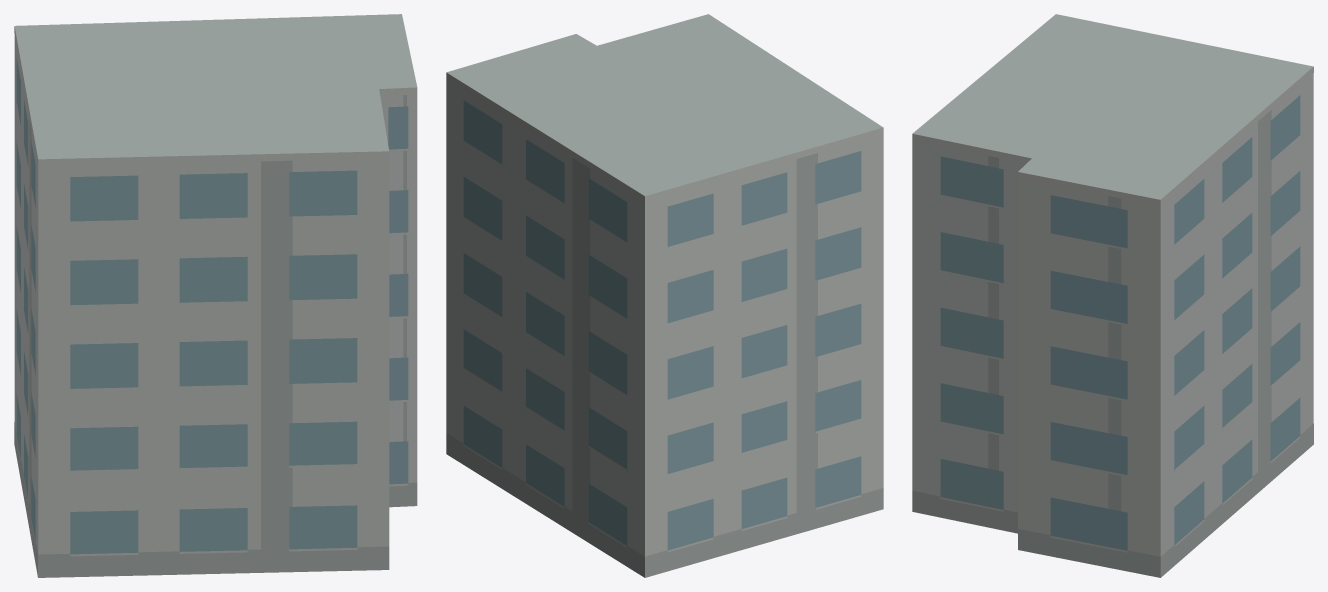
Rendered from survey-upis-33017292.glb.
The picture shows the model from 3 angles, left to right: view 1: azimuth 30°, elevation 25°; view 2: azimuth 150°, elevation 25°; view 3: azimuth 270°, elevation 25°; orthographic projection. The views are drawn at different scales.
Parts seen in each view (by area): view 1: survey-upis-33017292.tmp; view 2: survey-upis-33017292.tmp; view 3: survey-upis-33017292.tmp.
Boxes of the visible parts, x1=… form: survey-upis-33017292.tmp: x1=14, y1=14, x2=417, y2=577; survey-upis-33017292.tmp: x1=446, y1=14, x2=883, y2=577; survey-upis-33017292.tmp: x1=912, y1=14, x2=1313, y2=577.
Size of the model in its own units: 15.09 by 14.3 by 13.77.
